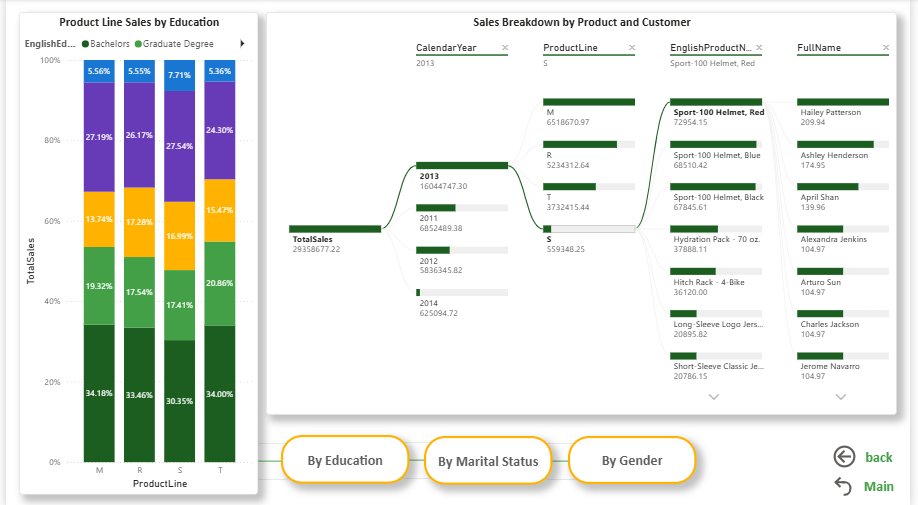

This screenshot's page, from the dashboard's own definition file:
{"tool":"powerbi","page":{"name":"Breakdown","canvas":[1280,720],"ordinal":2},"visuals":[{"type":"actionButton","box":[1201.1,668.8,73.7,42.5],"z":0},{"type":"actionButton","box":[1206.7,629.1,62.4,39.7],"z":1000},{"type":"actionButton","box":[1168.5,627.7,43.9,41.1],"z":2000},{"type":"actionButton","box":[1168.5,668.8,36.9,42.5],"z":3000},{"type":"shape","box":[337.1,629.7,64.4,51.5],"z":4000},{"type":"shape","box":[560.9,628.1,64.4,51.5],"z":5000},{"type":"shape","box":[763.7,629.7,64.4,51.5],"z":6000},{"type":"actionButton","box":[390.2,618.5,181.9,69.2],"z":7000},{"type":"actionButton","box":[593.1,620.1,181.9,69.2],"z":8000},{"type":"actionButton","box":[795.9,620.1,181.9,67.6],"z":9000},{"type":"hundredPercentStackedColumnChart","title":"Product Line Sales by Education","fields":{"Category":["DimProduct.ProductLine"],"Y":["All-Measures.TotalSales"],"Series":["DimCustomer.EnglishEducation"]},"box":[17.8,17.8,339.2,684.4],"z":10000},{"type":"decompositionTreeVisual","title":"Sales Breakdown by Product and Customer","fields":{"ExplainBy":["DimDate.CalendarYear","DimProduct.ProductLine","DimProduct.EnglishProductName","DimCustomer.FullName"],"Analyze":["All-Measures.TotalSales"]},"box":[368.5,18.4,894.3,571.2],"z":13000}]}

Visuals, with their boxes in screenshot pixels (x1, y1, x2, y2), scaled from the page's 1280x720 canvas onto the 918x505 screenshot:
actionButton: 861 469 914 499
actionButton: 865 441 910 469
actionButton: 838 440 870 469
actionButton: 838 469 864 499
shape: 242 442 288 478
shape: 402 441 448 477
shape: 548 442 594 478
actionButton: 280 434 410 482
actionButton: 425 435 556 483
actionButton: 571 435 701 482
"Product Line Sales by Education" hundredPercentStackedColumnChart: 13 12 256 493
"Sales Breakdown by Product and Customer" decompositionTreeVisual: 264 13 906 414
